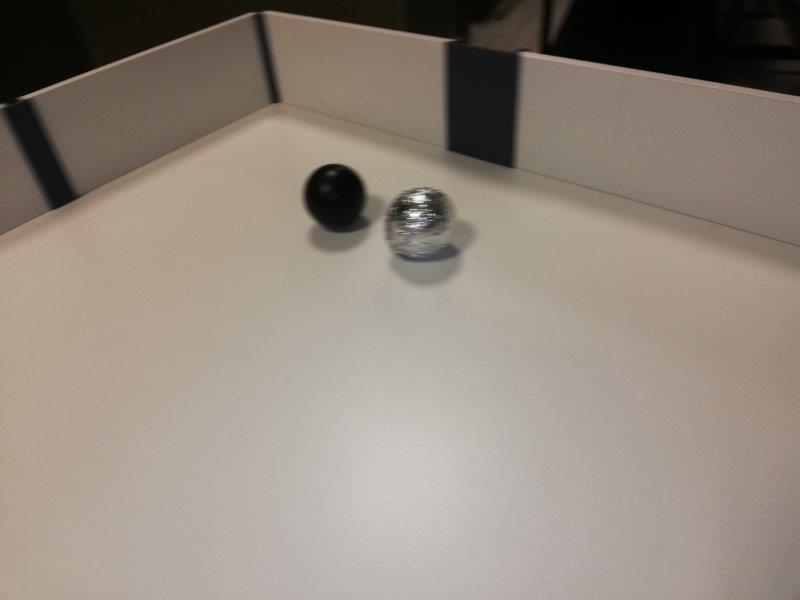bianca: (384, 185, 462, 262)
nera: (303, 163, 367, 230)
